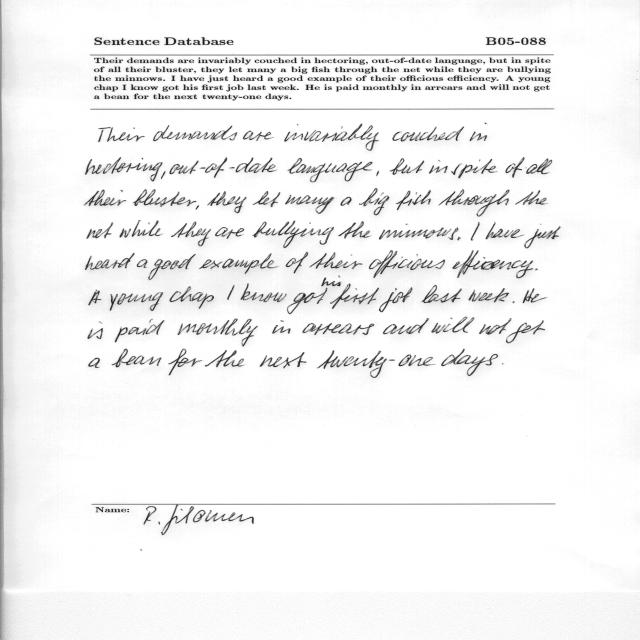word: (317, 350, 436, 378), (284, 124, 379, 151), (453, 251, 534, 279), (169, 157, 276, 178), (178, 319, 258, 347), (253, 221, 334, 248), (369, 250, 445, 278), (288, 158, 373, 182), (439, 189, 510, 217), (86, 158, 163, 182), (310, 252, 363, 286), (199, 253, 279, 274), (441, 349, 498, 376), (153, 125, 237, 141), (379, 223, 458, 240), (330, 283, 379, 309), (148, 254, 196, 280), (133, 189, 197, 207), (115, 319, 165, 342), (392, 127, 464, 142), (287, 288, 328, 314), (169, 286, 214, 309), (110, 292, 163, 311), (171, 222, 211, 247), (285, 195, 334, 214), (112, 349, 162, 367), (506, 320, 545, 343), (169, 349, 203, 375), (451, 159, 497, 178), (525, 224, 561, 248), (303, 323, 375, 335), (208, 191, 247, 213), (379, 288, 413, 313), (359, 189, 390, 216), (86, 253, 135, 270), (260, 352, 306, 369), (421, 285, 462, 303), (383, 318, 429, 334), (119, 221, 162, 238), (396, 190, 431, 210), (99, 127, 145, 142), (432, 317, 475, 333), (84, 190, 126, 206), (205, 350, 244, 367), (486, 222, 524, 239), (390, 158, 424, 175), (241, 284, 273, 302), (468, 288, 509, 302), (338, 222, 371, 239), (479, 318, 512, 335), (515, 190, 548, 205), (286, 252, 308, 273), (253, 191, 281, 207), (87, 222, 113, 239), (526, 159, 552, 174), (506, 158, 525, 178), (523, 289, 547, 304), (215, 227, 244, 239), (243, 131, 274, 141), (470, 123, 487, 141), (88, 321, 103, 339), (273, 320, 291, 334), (429, 160, 448, 173), (89, 290, 101, 305), (471, 222, 480, 240), (271, 292, 286, 302), (227, 285, 235, 300), (89, 358, 100, 368), (340, 197, 352, 206), (137, 259, 147, 268), (161, 171, 166, 179), (376, 171, 379, 176), (196, 205, 199, 210), (457, 237, 460, 241), (535, 269, 538, 271), (513, 301, 515, 303), (502, 363, 503, 364)
